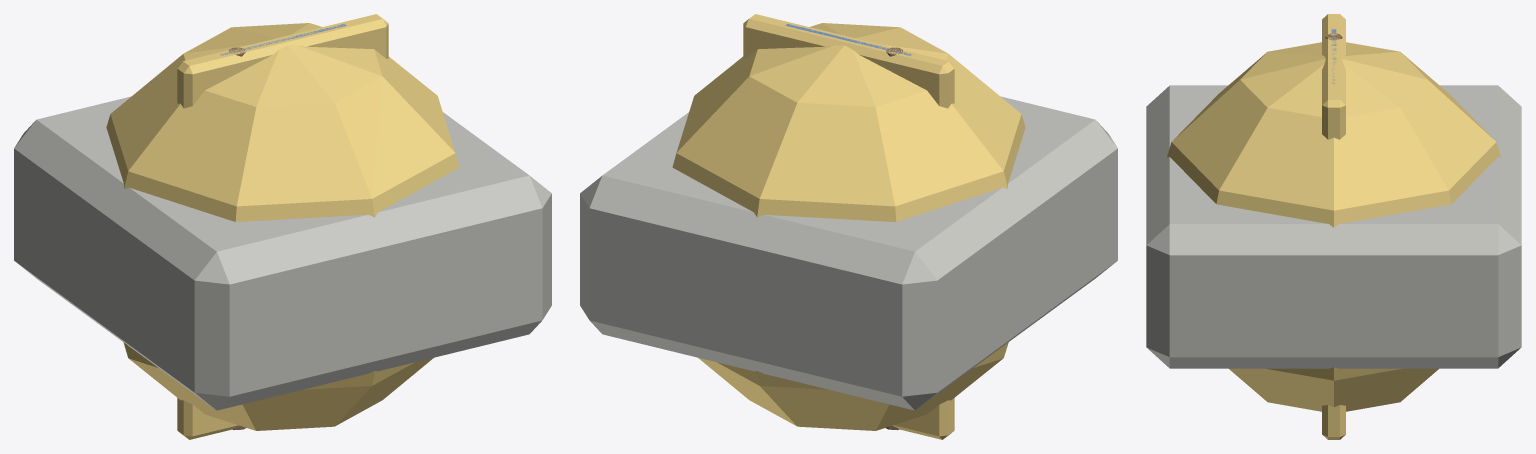
Rendered from banner_pole.glb.
The picture shows the model from 3 angles, left to right: view 1: azimuth 30°, elevation 25°; view 2: azimuth 150°, elevation 25°; view 3: azimuth 270°, elevation 25°; orthographic projection. The views are drawn at different scales.
Visible parts, largest first — view 1: banner_pole_0, banner_pole_2, banner_pole_4; view 2: banner_pole_0, banner_pole_2, banner_pole_4; view 3: banner_pole_0, banner_pole_2, banner_pole_4.
Part boxes in pixels (x1,y1,x2,y2): banner_pole_0: (14,96,551,410); banner_pole_2: (106,23,459,430); banner_pole_4: (177,14,388,439); banner_pole_0: (580,96,1117,410); banner_pole_2: (672,23,1025,430); banner_pole_4: (743,14,954,439); banner_pole_0: (1146,85,1521,368); banner_pole_2: (1167,42,1500,411); banner_pole_4: (1322,14,1345,439).
Size of the model in its own units: 2 by 2 by 2.
